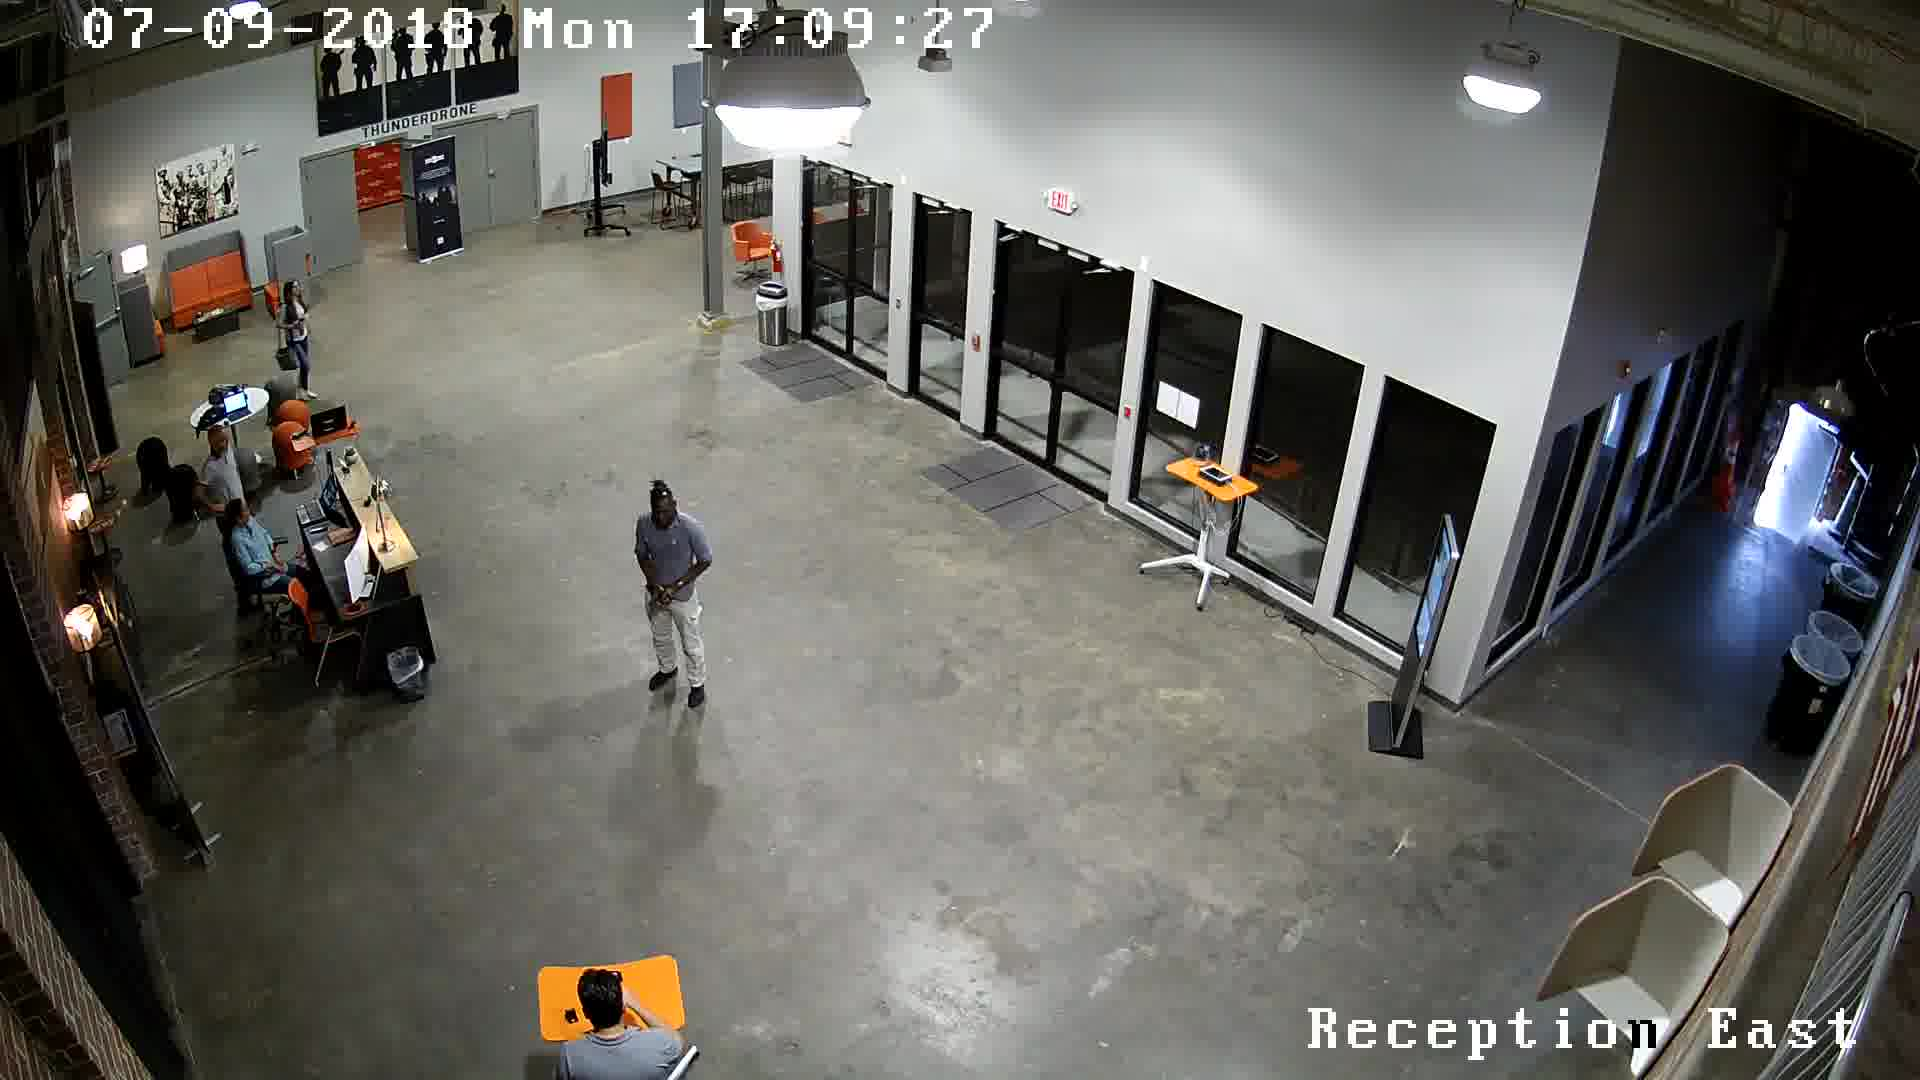pistol: (634, 580, 675, 638)
